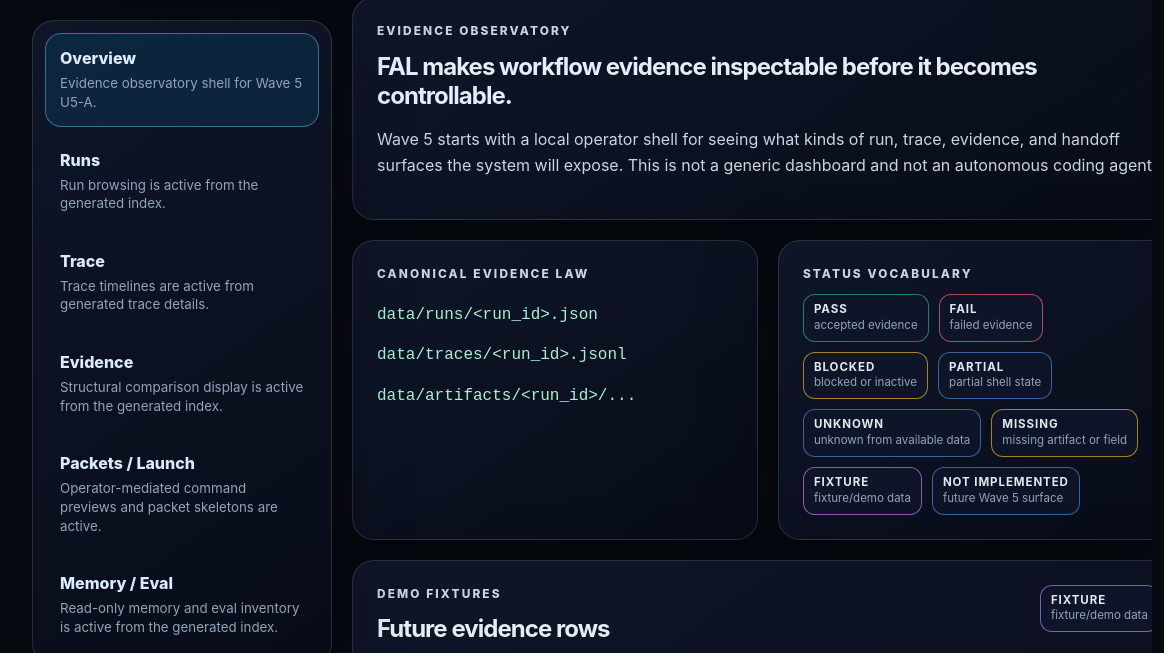
Test: U5-A workbench shell › renders empty comparison index as not demonstrated instead of failure
The image size is (1164, 653).
(page scrolled)
Click the button "Evidence" at point(182, 384), box [45,337,319,430]
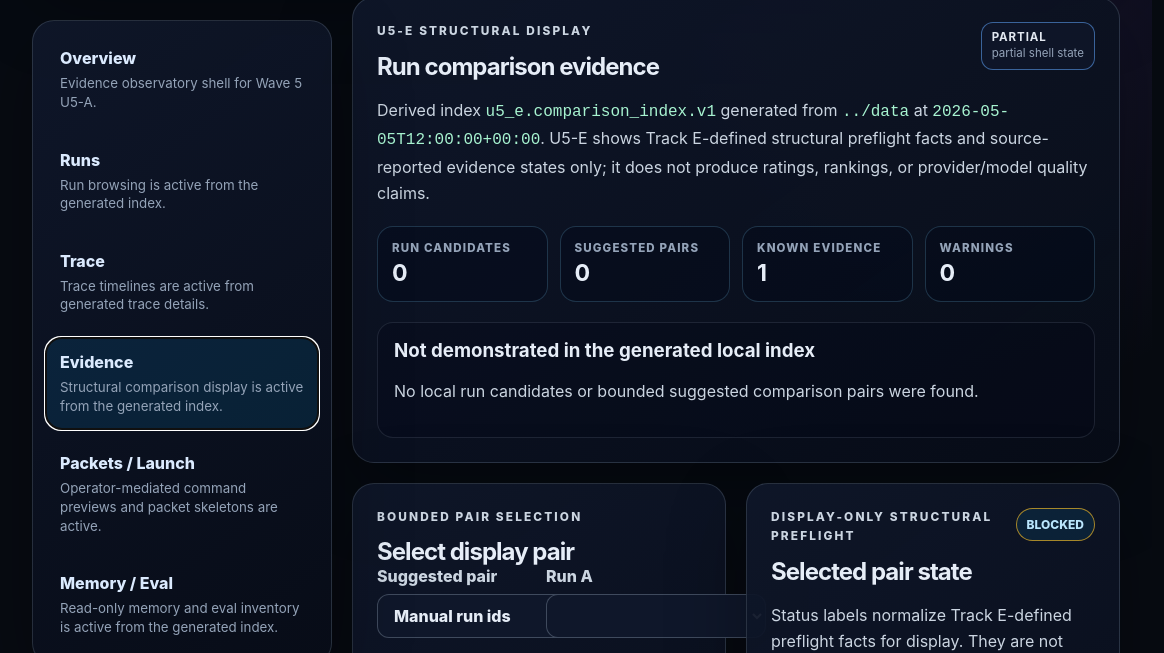
Now the heading "Run comparison evidence" is shown, box [377,52,659,81]
Now the heading "Not demonstrated in the generated local index" is shown, box [394,339,815,362]
Now the text "FAIL" is gone
